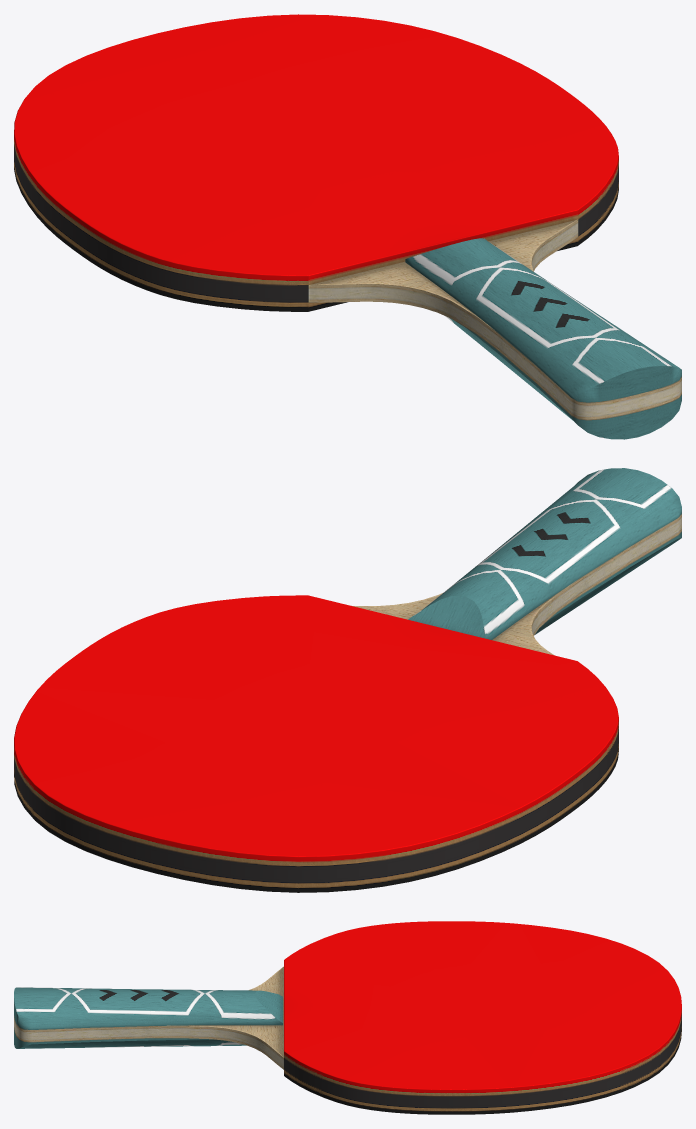
The model's file is ping pong paddle.fbx.
The picture shows the model from 3 angles, top to bottom: view 1: azimuth 30°, elevation 25°; view 2: azimuth 150°, elevation 25°; view 3: azimuth 270°, elevation 25°; orthographic projection. The views are drawn at different scales.
Parts seen in each view (by area): view 1: SM_PingPongPaddle; view 2: SM_PingPongPaddle; view 3: SM_PingPongPaddle.
Part boxes in pixels (box(x1,y1,x2,y2)): SM_PingPongPaddle: box(14, 14, 681, 439); SM_PingPongPaddle: box(14, 468, 681, 892); SM_PingPongPaddle: box(14, 921, 681, 1114).
Size of the model in its own units: 273 by 37.13 by 457.
